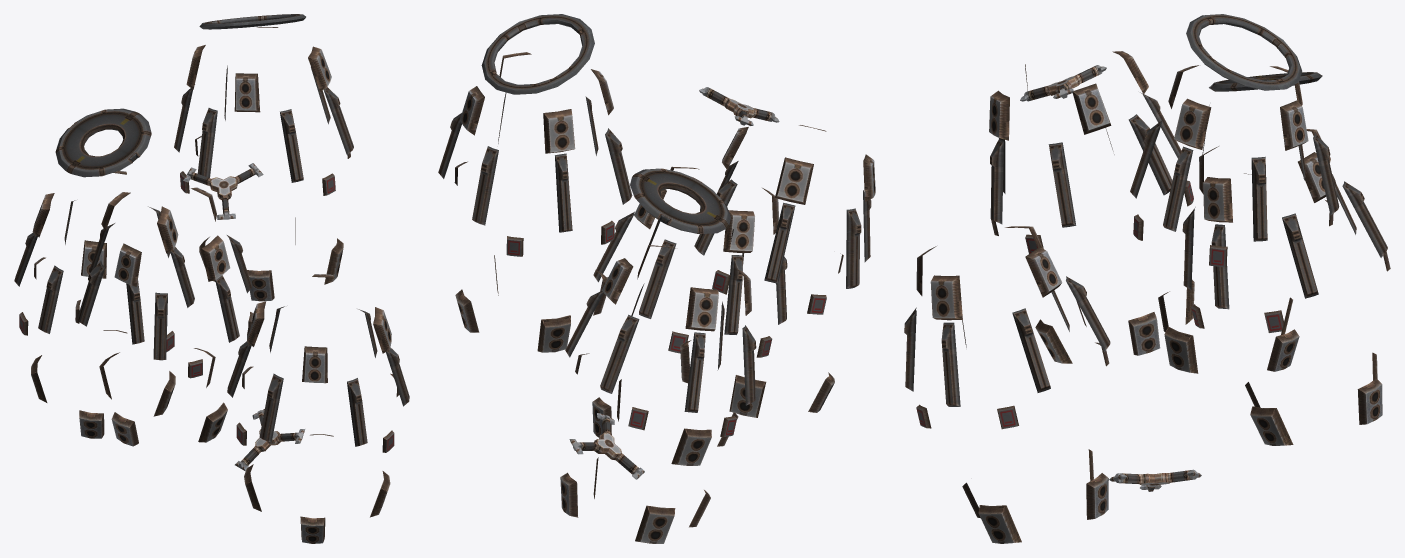
The model's file is prop_static_yao_container_02_08_0.glb.
The picture shows the model from 3 angles, left to right: view 1: azimuth 30°, elevation 25°; view 2: azimuth 150°, elevation 25°; view 3: azimuth 270°, elevation 25°; orthographic projection. The views are drawn at different scales.
Visible parts, largest first — view 1: yao_container_02_08_LOD0; view 2: yao_container_02_08_LOD0; view 3: yao_container_02_08_LOD0.
Part boxes in pixels (x1,y1,x2,y2): yao_container_02_08_LOD0: [14, 14, 409, 543]; yao_container_02_08_LOD0: [438, 14, 875, 543]; yao_container_02_08_LOD0: [904, 14, 1390, 543].
Size of what is drawn, in the model's own units: 2.81 by 3.75 by 3.22.
1 material, 1 textured.
